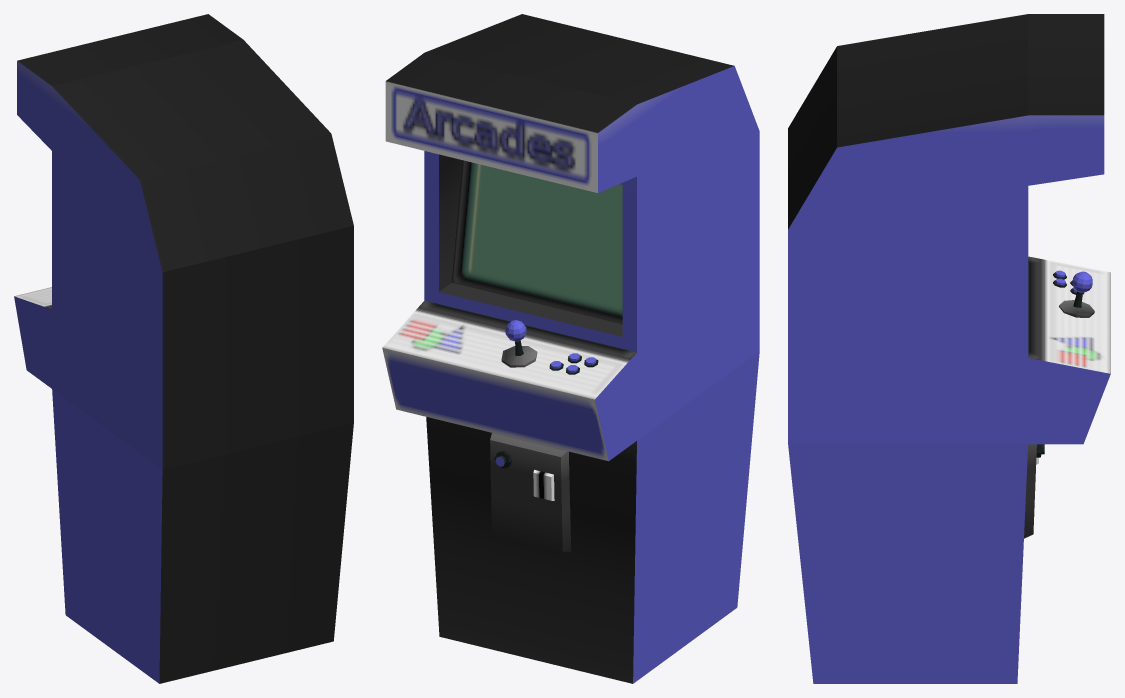
File: Arcaders_01.fbx
3 renders of one model, left to right at view 1: azimuth 30°, elevation 25°; view 2: azimuth 150°, elevation 25°; view 3: azimuth 270°, elevation 25°, orthographic. The views are drawn at different scales.
Parts seen in each view (by area): view 1: Arcade; view 2: Arcade, CoinAndSistemBox, InsertCoin, Cylinder.004; view 3: Arcade, CoinAndSistemBox.
Boxes of the visible parts, x1,y1,x2,y2 form: Arcade: [14, 14, 353, 683]; Arcade: [382, 14, 759, 683]; CoinAndSistemBox: [490, 433, 571, 551]; InsertCoin: [533, 469, 554, 500]; Cylinder.004: [501, 346, 537, 367]; Arcade: [788, 14, 1110, 683]; CoinAndSistemBox: [1024, 444, 1036, 538].
Size of the model in its own units: 220 by 578 by 295.
